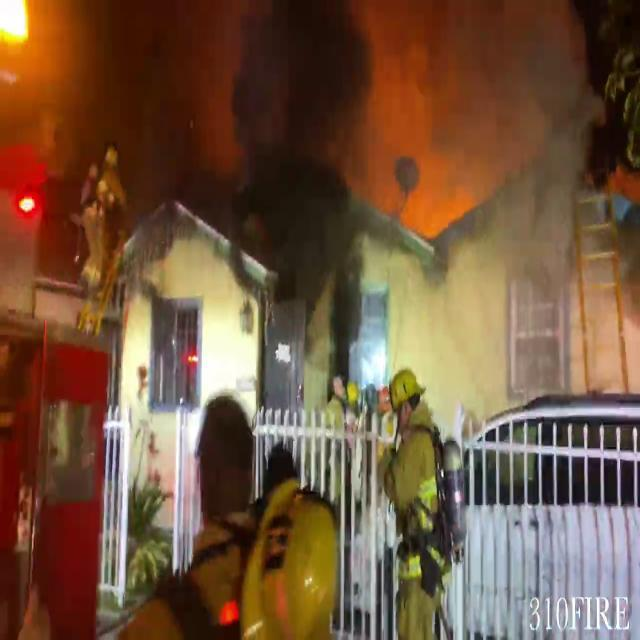Smoke: (48, 0, 619, 365)
